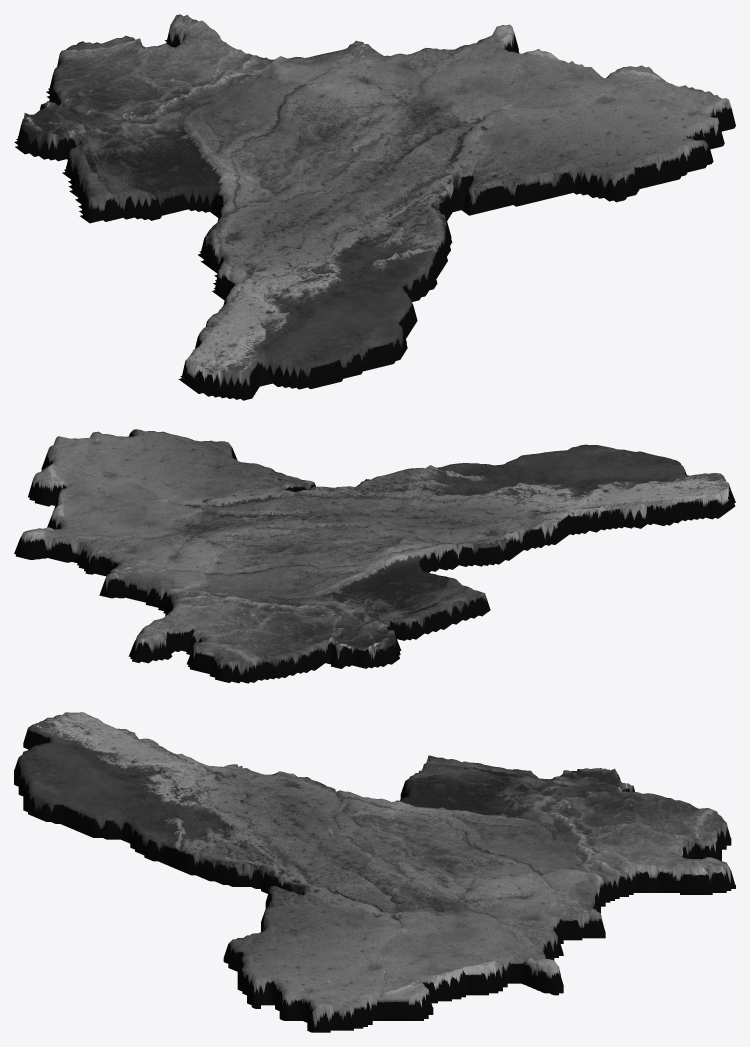
Rendered from Punjab4-transformed.glb.
3 views of the same model, one above another, from view 1: azimuth 30°, elevation 25°; view 2: azimuth 150°, elevation 25°; view 3: azimuth 270°, elevation 25° (orthographic). The views are drawn at different scales.
Parts seen in each view (by area): view 1: Plane; view 2: Plane; view 3: Plane.
Boxes of the visible parts, box(x1,y1,x2,y2) form: Plane: box(14, 14, 735, 400); Plane: box(14, 429, 735, 683); Plane: box(14, 712, 735, 1032).
Bounding box in the file's own units: 1.87 × 0.075 × 1.89.
Materials: 1 (1 with a texture image).
